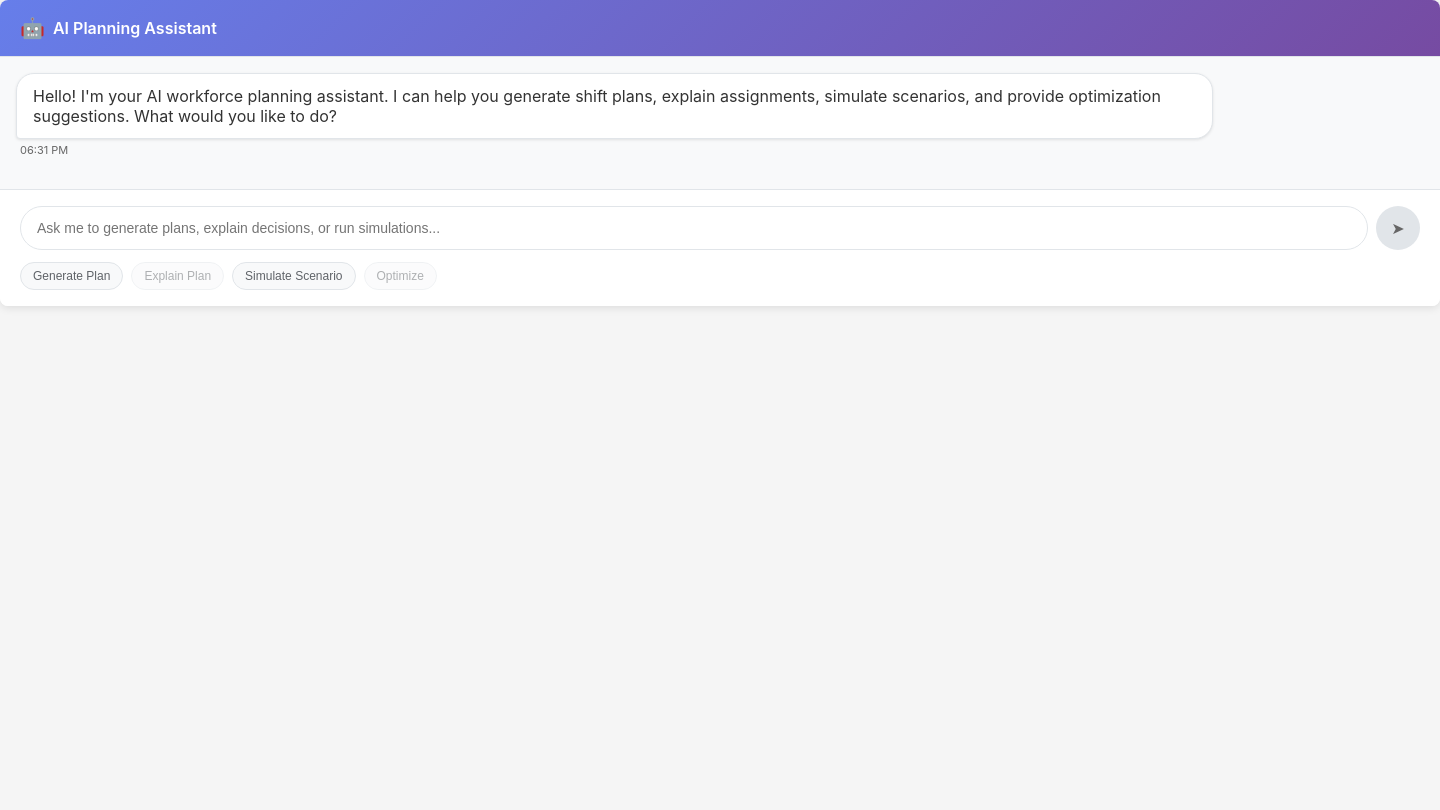
AIAssistant › shows plan ID in header after successful generation
Step 1. Replace the text in the field with placeholder "Ask me to generate plans" with "create a plan" → point(694, 228), box [20, 206, 1368, 250]
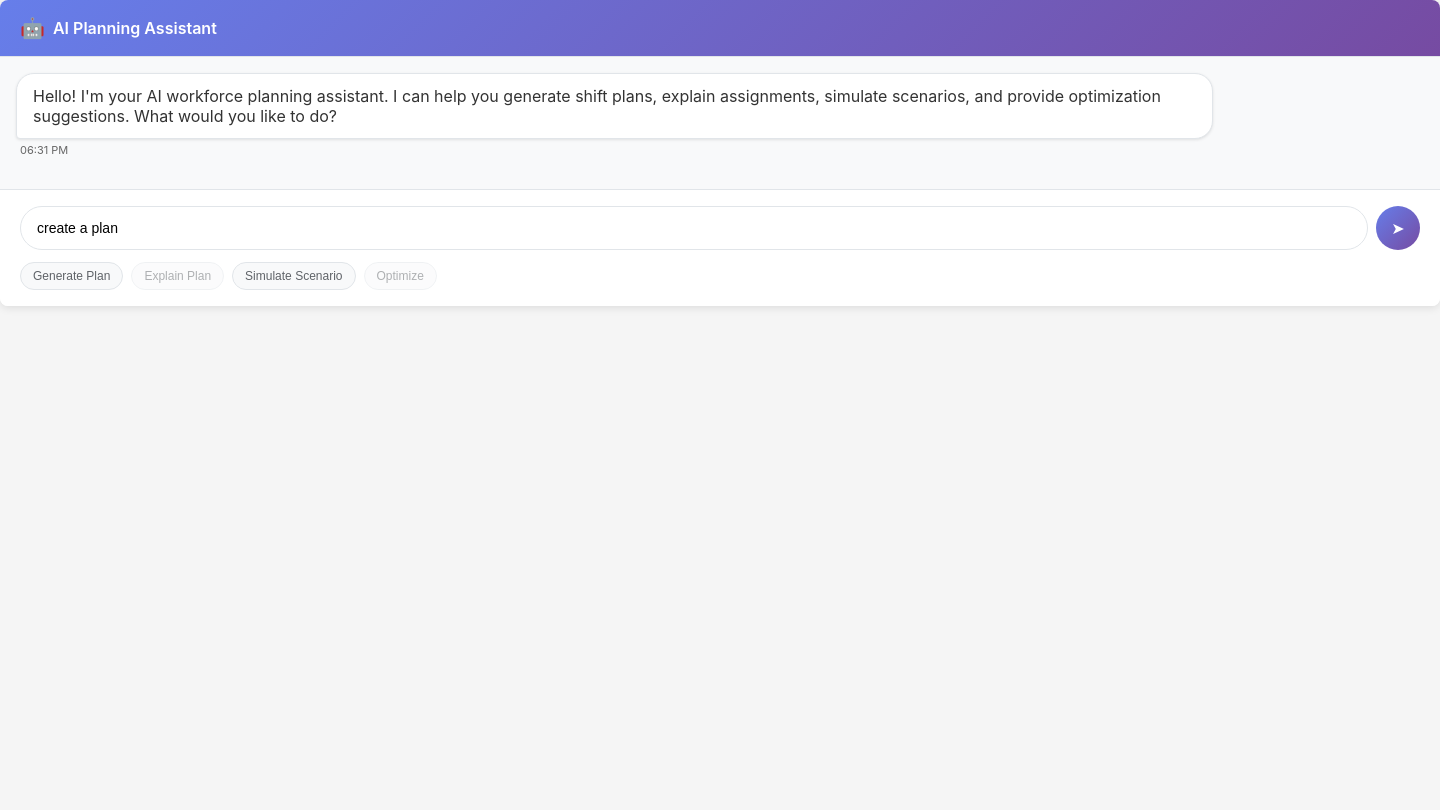
Step 2. Click the button "➤" → point(1398, 228), box [1376, 206, 1420, 250]
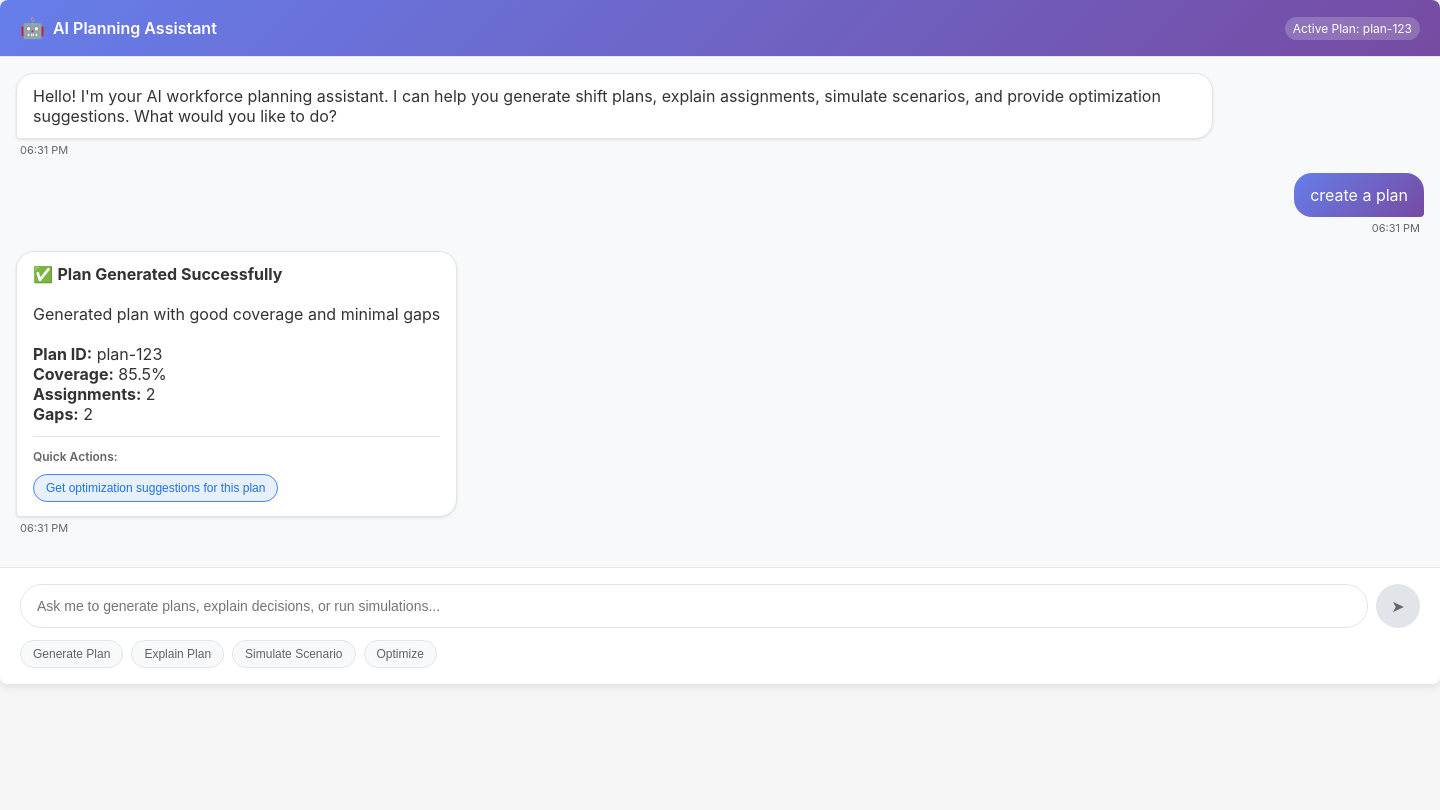
Expected: the text "Active Plan: plan-123" is shown, [1285, 16, 1420, 40]
